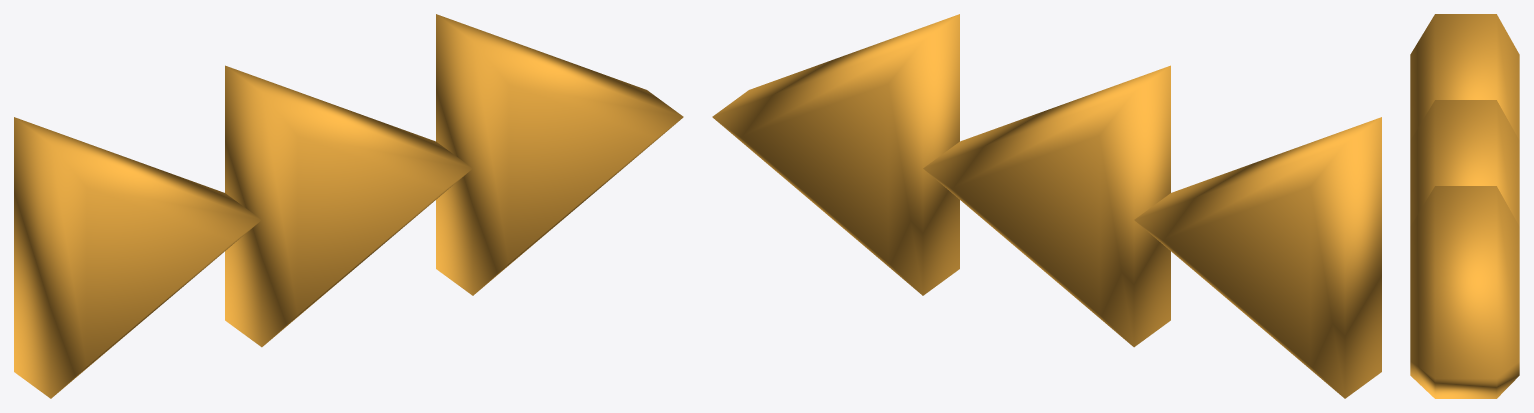
File: arrow_oga.glb
The picture shows the model from 3 angles, left to right: view 1: azimuth 30°, elevation 25°; view 2: azimuth 150°, elevation 25°; view 3: azimuth 270°, elevation 25°; orthographic projection. The views are drawn at different scales.
Visible parts, largest first — view 1: ArrowChevrons; view 2: ArrowChevrons; view 3: ArrowChevrons.
Boxes of the visible parts, x1=… form: ArrowChevrons: x1=14, y1=14, x2=683, y2=398; ArrowChevrons: x1=712, y1=14, x2=1381, y2=398; ArrowChevrons: x1=1410, y1=14, x2=1519, y2=398.
Size of the model in its own units: 2.2 by 0.8468 by 0.3933.
